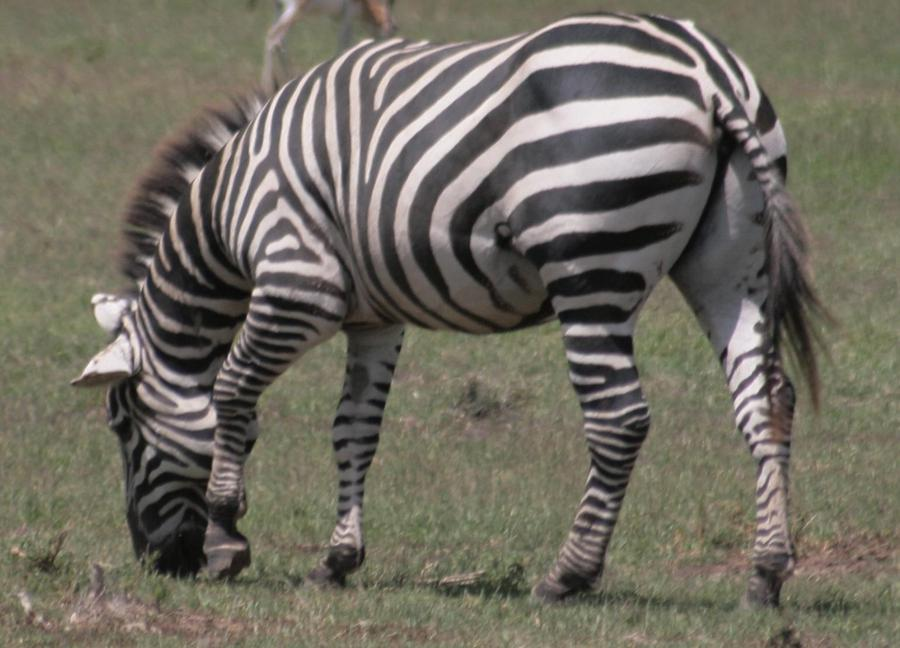zebra_plains: (213, 22, 687, 362)
